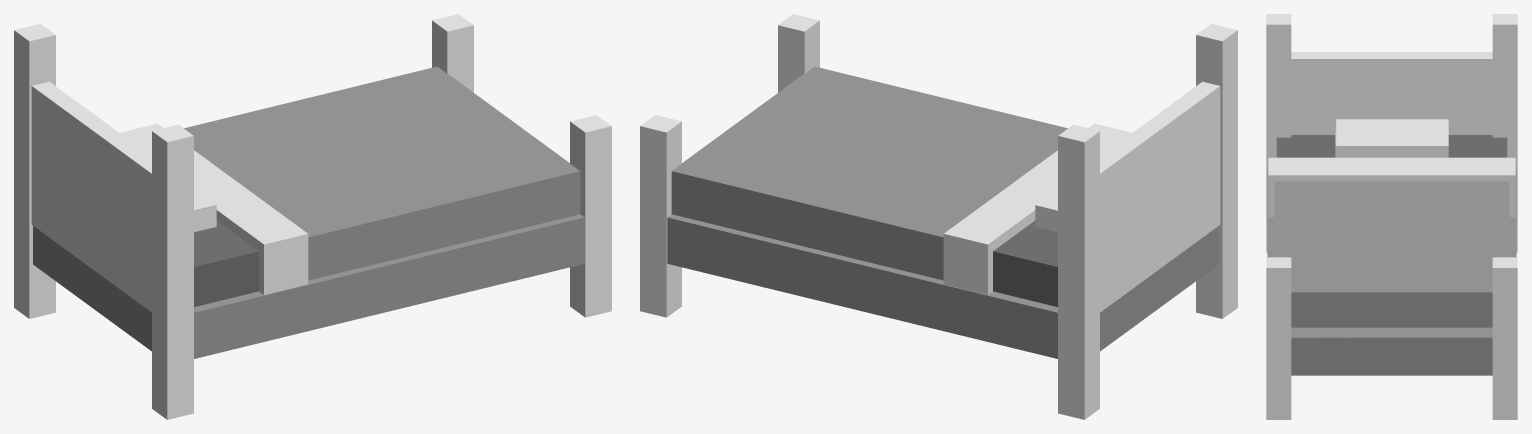
File: bed1_modern.glb
3 views of the same model, side by side, from view 1: azimuth 30°, elevation 25°; view 2: azimuth 150°, elevation 25°; view 3: azimuth 270°, elevation 25° (orthographic). The views are drawn at different scales.
Parts seen in each view (by area): view 1: Object007; view 2: Object007; view 3: Object007.
Part boxes in pixels (left/top/right/bottom): Object007: left=14, top=14, right=611, bottom=419; Object007: left=640, top=14, right=1237, bottom=419; Object007: left=1266, top=14, right=1517, bottom=419.
Bounding box in the file's own units: 0.2011 × 0.12 × 0.12.
1 material, 1 textured.
